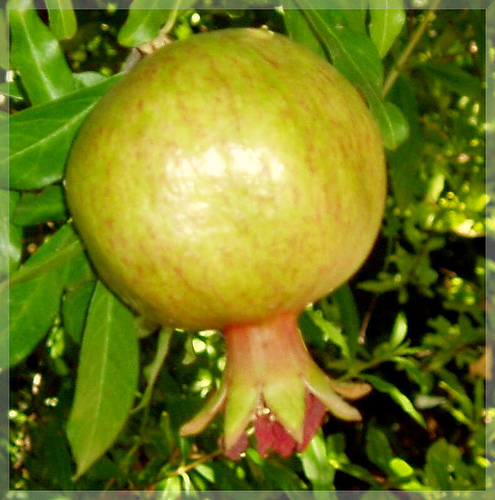pomogranate: (62, 26, 388, 462)
